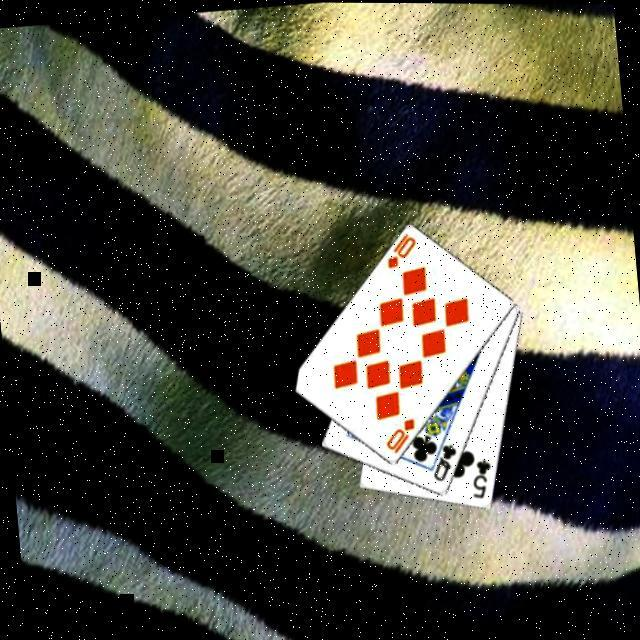10D: (382, 414, 421, 458), (382, 230, 421, 272)
5C: (467, 456, 497, 502)
QC: (428, 440, 462, 484)
